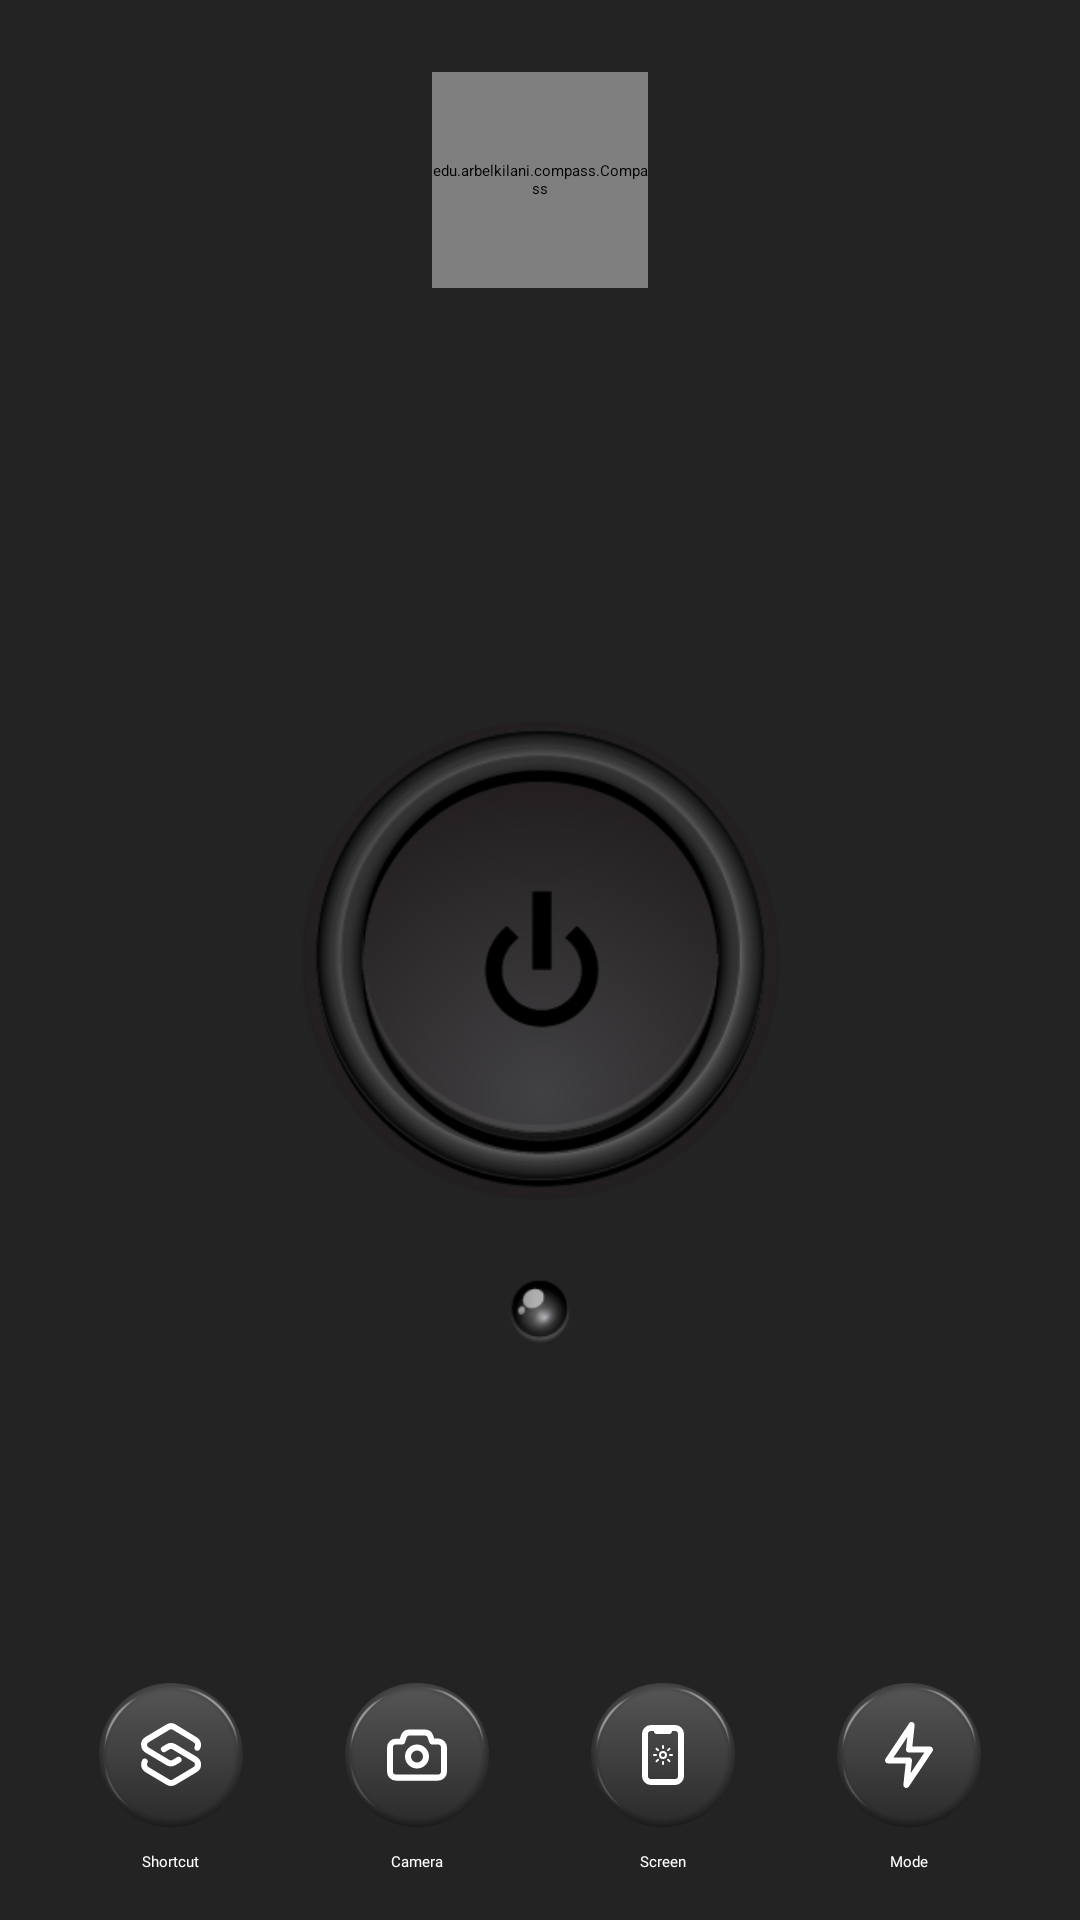

Screen size 1080*1920. Icon name, then its box in pixels as (x1, y1, x2, y2):
brightness: (627, 1725, 699, 1791)
flash: (873, 1722, 945, 1791)
